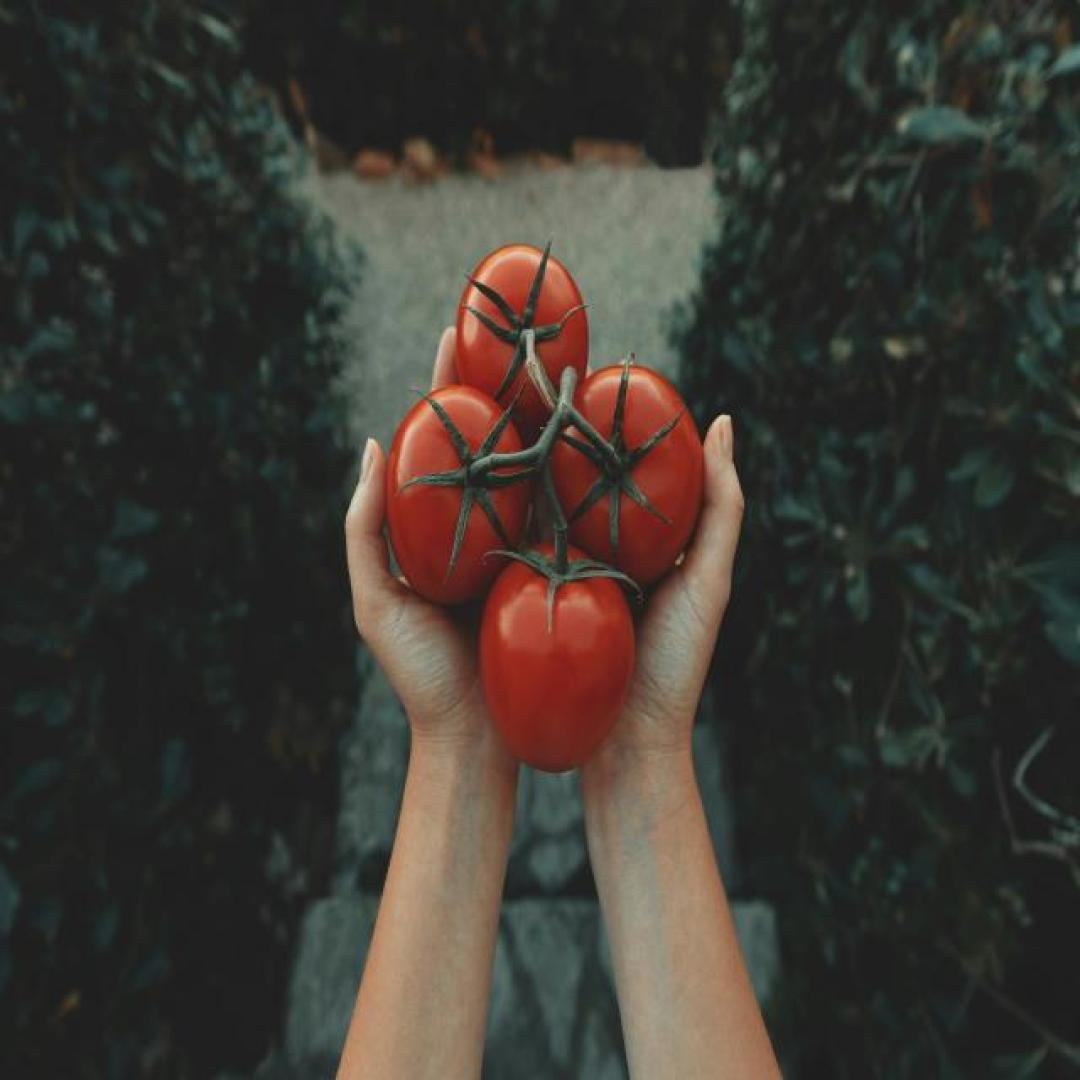matang: (478, 542, 634, 774), (548, 364, 706, 590), (386, 386, 528, 608), (456, 245, 589, 444)
